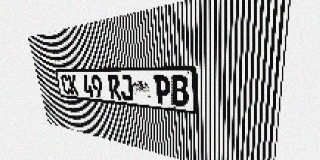4: (82, 75, 94, 97)
9: (91, 75, 104, 98)
B: (170, 75, 189, 107)
C: (60, 75, 71, 95)
J: (119, 75, 134, 101)
K: (68, 75, 79, 95)
P: (154, 75, 171, 105)
R: (107, 75, 122, 100)
